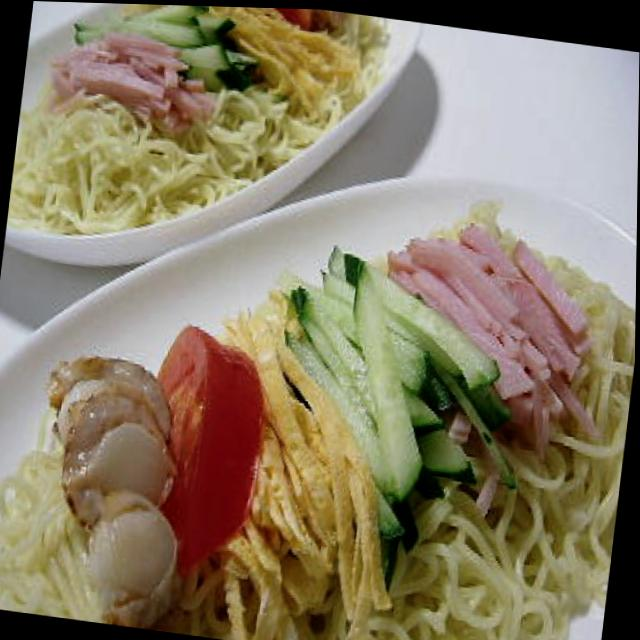面条主食: (0, 111, 639, 640)
